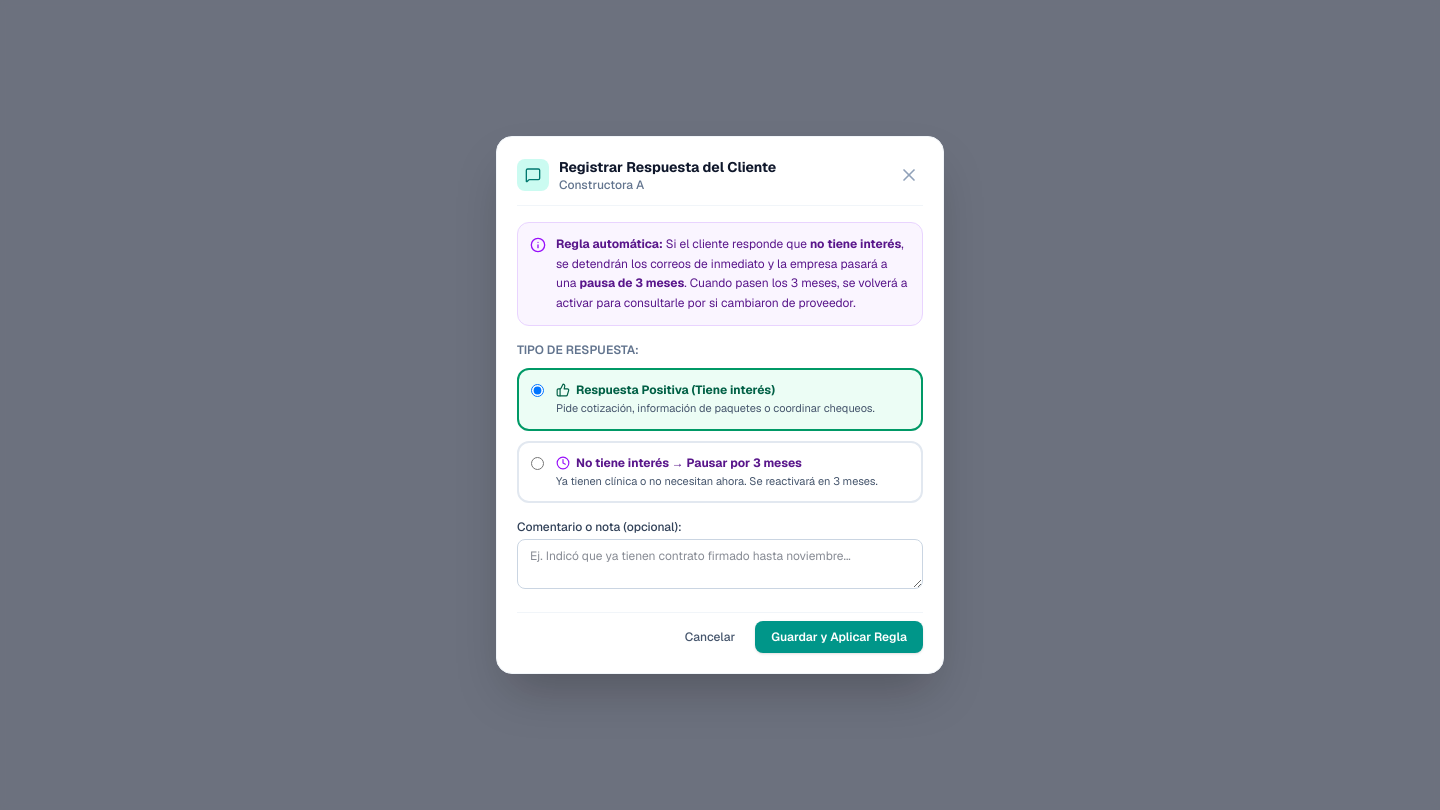
Test: ModalRespuesta (component) › surfaces the API error verbatim and keeps the form open
Click the button "Guardar y Aplicar Regla" at (839, 637), box [755,621,923,653]
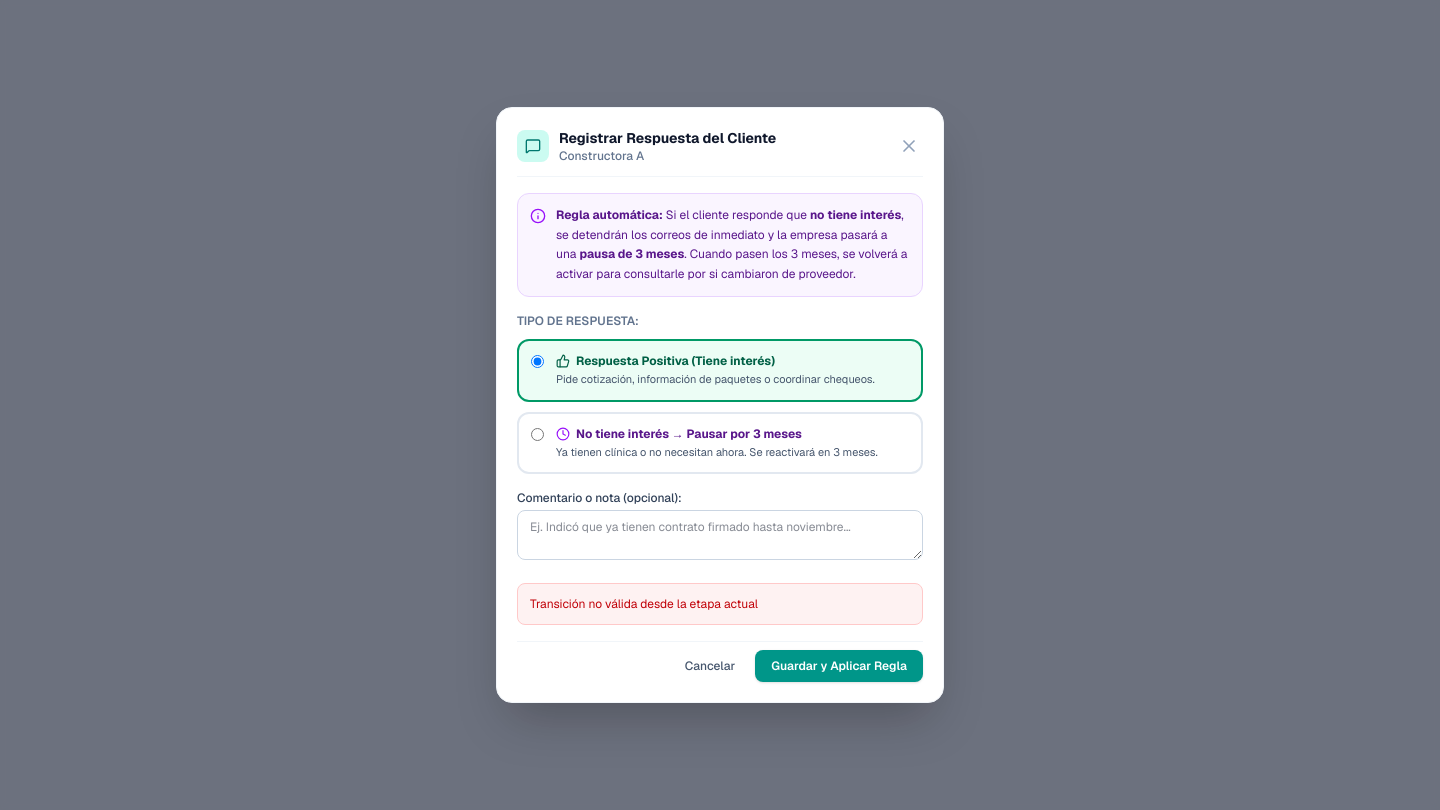
Check: the button "Guardar y Aplicar Regla" is shown, box [755,650,923,682]
Check: the message reads "Transición no válida desde la etapa actual", box [530,596,758,612]
